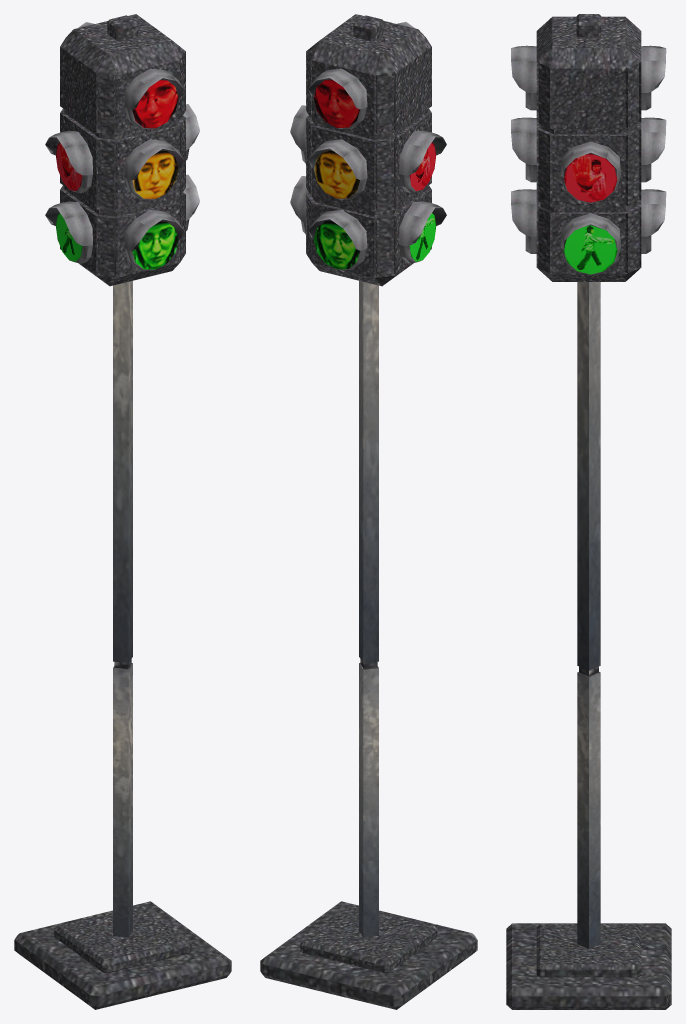
File: Traffic_Light.fbx
3 views of the same model, side by side, from view 1: azimuth 30°, elevation 25°; view 2: azimuth 150°, elevation 25°; view 3: azimuth 270°, elevation 25° (orthographic).
Parts seen in each view (by area): view 1: pCylinder2; view 2: pCylinder2; view 3: pCylinder2.
Boxes of the visible parts, box(x1,y1,x2,y2) form: pCylinder2: box(14, 14, 231, 1009); pCylinder2: box(260, 14, 477, 1009); pCylinder2: box(506, 14, 671, 1009).
Size of the model in its own units: 64.73 by 414 by 64.73.
1 material, 1 textured.
